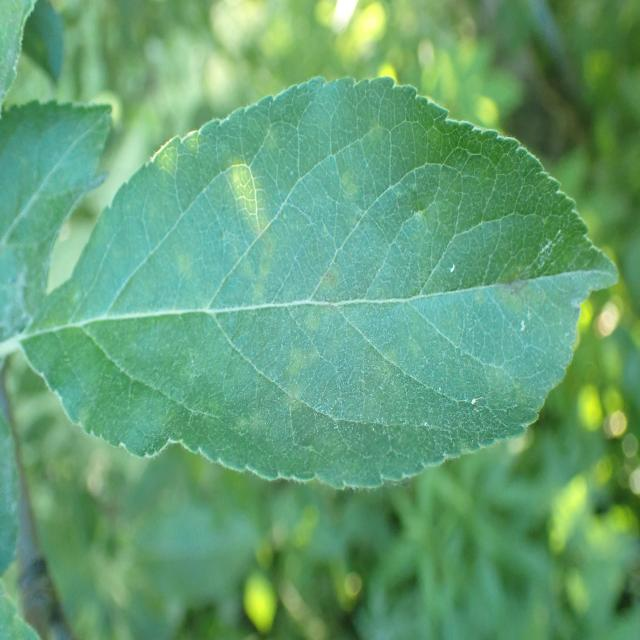scab: (76, 136, 588, 443)
